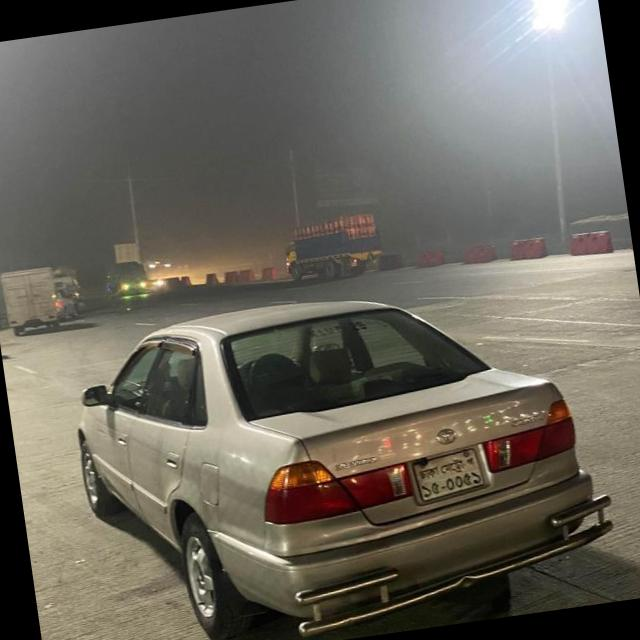Number-Plate: (406, 448, 500, 503)
